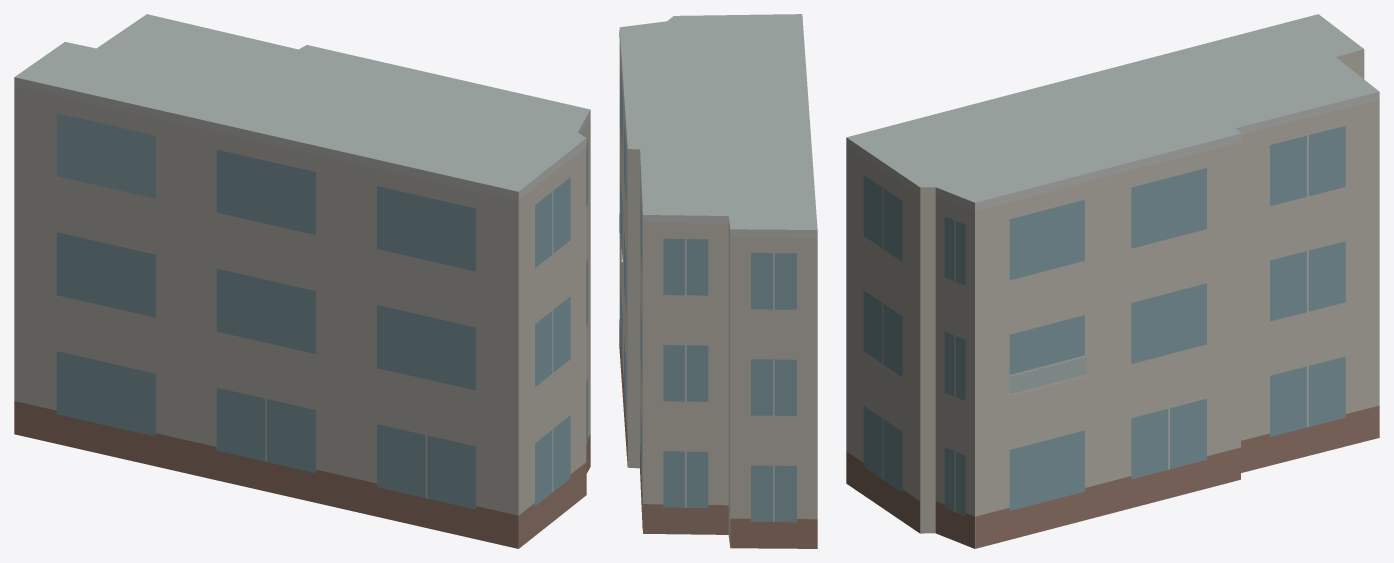
File: survey-upis-32604421.glb
3 views of the same model, side by side, from view 1: azimuth 30°, elevation 25°; view 2: azimuth 150°, elevation 25°; view 3: azimuth 270°, elevation 25° (orthographic). The views are drawn at different scales.
Parts seen in each view (by area): view 1: survey-upis-32604421.tmp; view 2: survey-upis-32604421.tmp; view 3: survey-upis-32604421.tmp.
Boxes of the visible parts, bbox=[...] form: survey-upis-32604421.tmp: bbox=[14, 14, 590, 548]; survey-upis-32604421.tmp: bbox=[619, 14, 817, 548]; survey-upis-32604421.tmp: bbox=[846, 14, 1379, 548].
Bounding box in the file's own units: 11.94 × 10.2 × 14.25.
